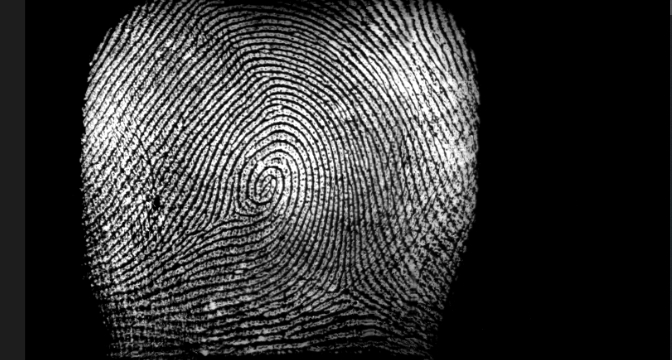nucelo: (248, 163, 283, 203)
verticilo: (331, 278, 363, 301), (222, 205, 240, 226)
